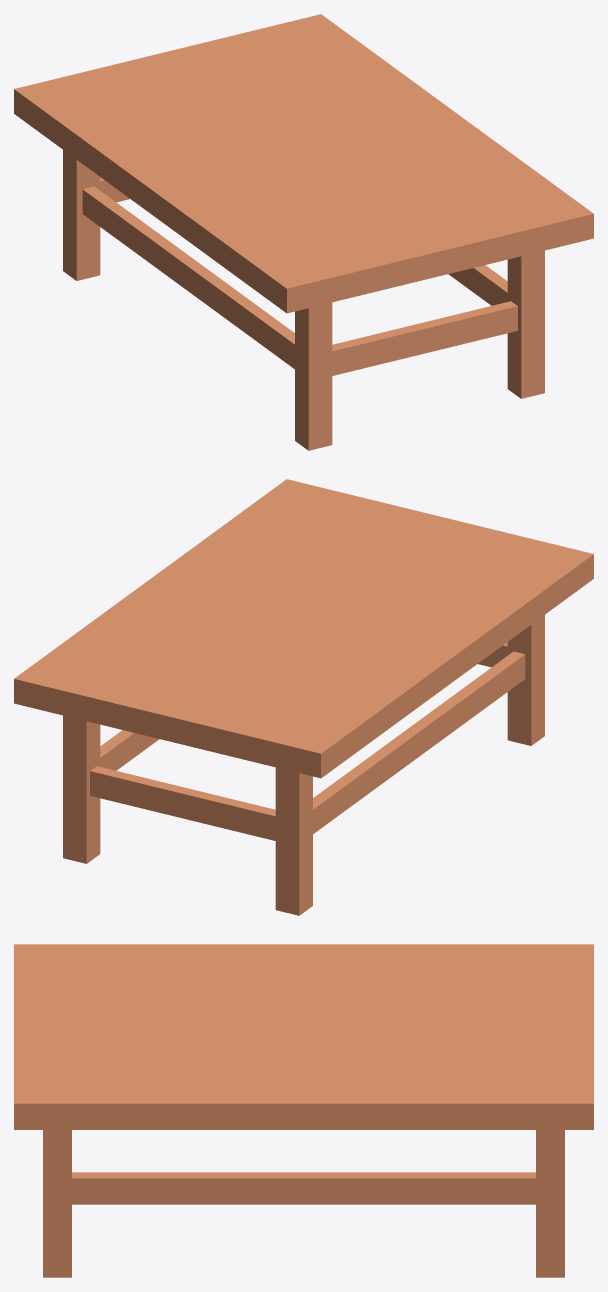
The model's file is stall.fbx.
The picture shows the model from 3 angles, top to bottom: view 1: azimuth 30°, elevation 25°; view 2: azimuth 150°, elevation 25°; view 3: azimuth 270°, elevation 25°; orthographic projection. The views are drawn at different scales.
Visible parts, largest first — view 1: stall; view 2: stall; view 3: stall.
Boxes of the visible parts, x1,y1,x2,y2 form: stall: (14,14,593,450); stall: (14,479,593,915); stall: (14,944,593,1277).
Size of the model in its own units: 6.5 by 3.66 by 10.
